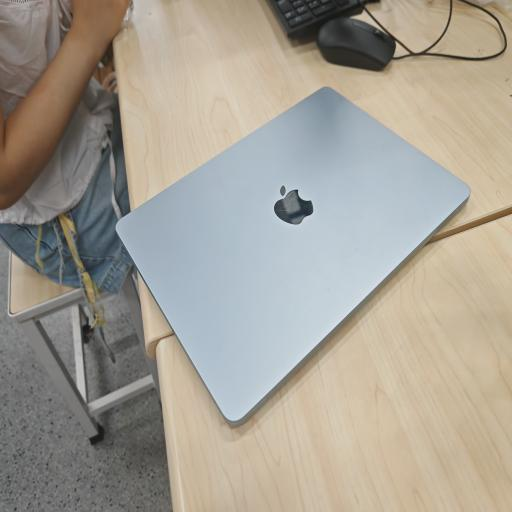laptop: (116, 88, 470, 426)
mouse: (316, 18, 396, 70)
